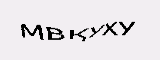В: (122, 18, 134, 39)
З: (106, 12, 120, 39)
Щ: (54, 10, 81, 35)
Я: (81, 6, 100, 39), (32, 10, 49, 34)
